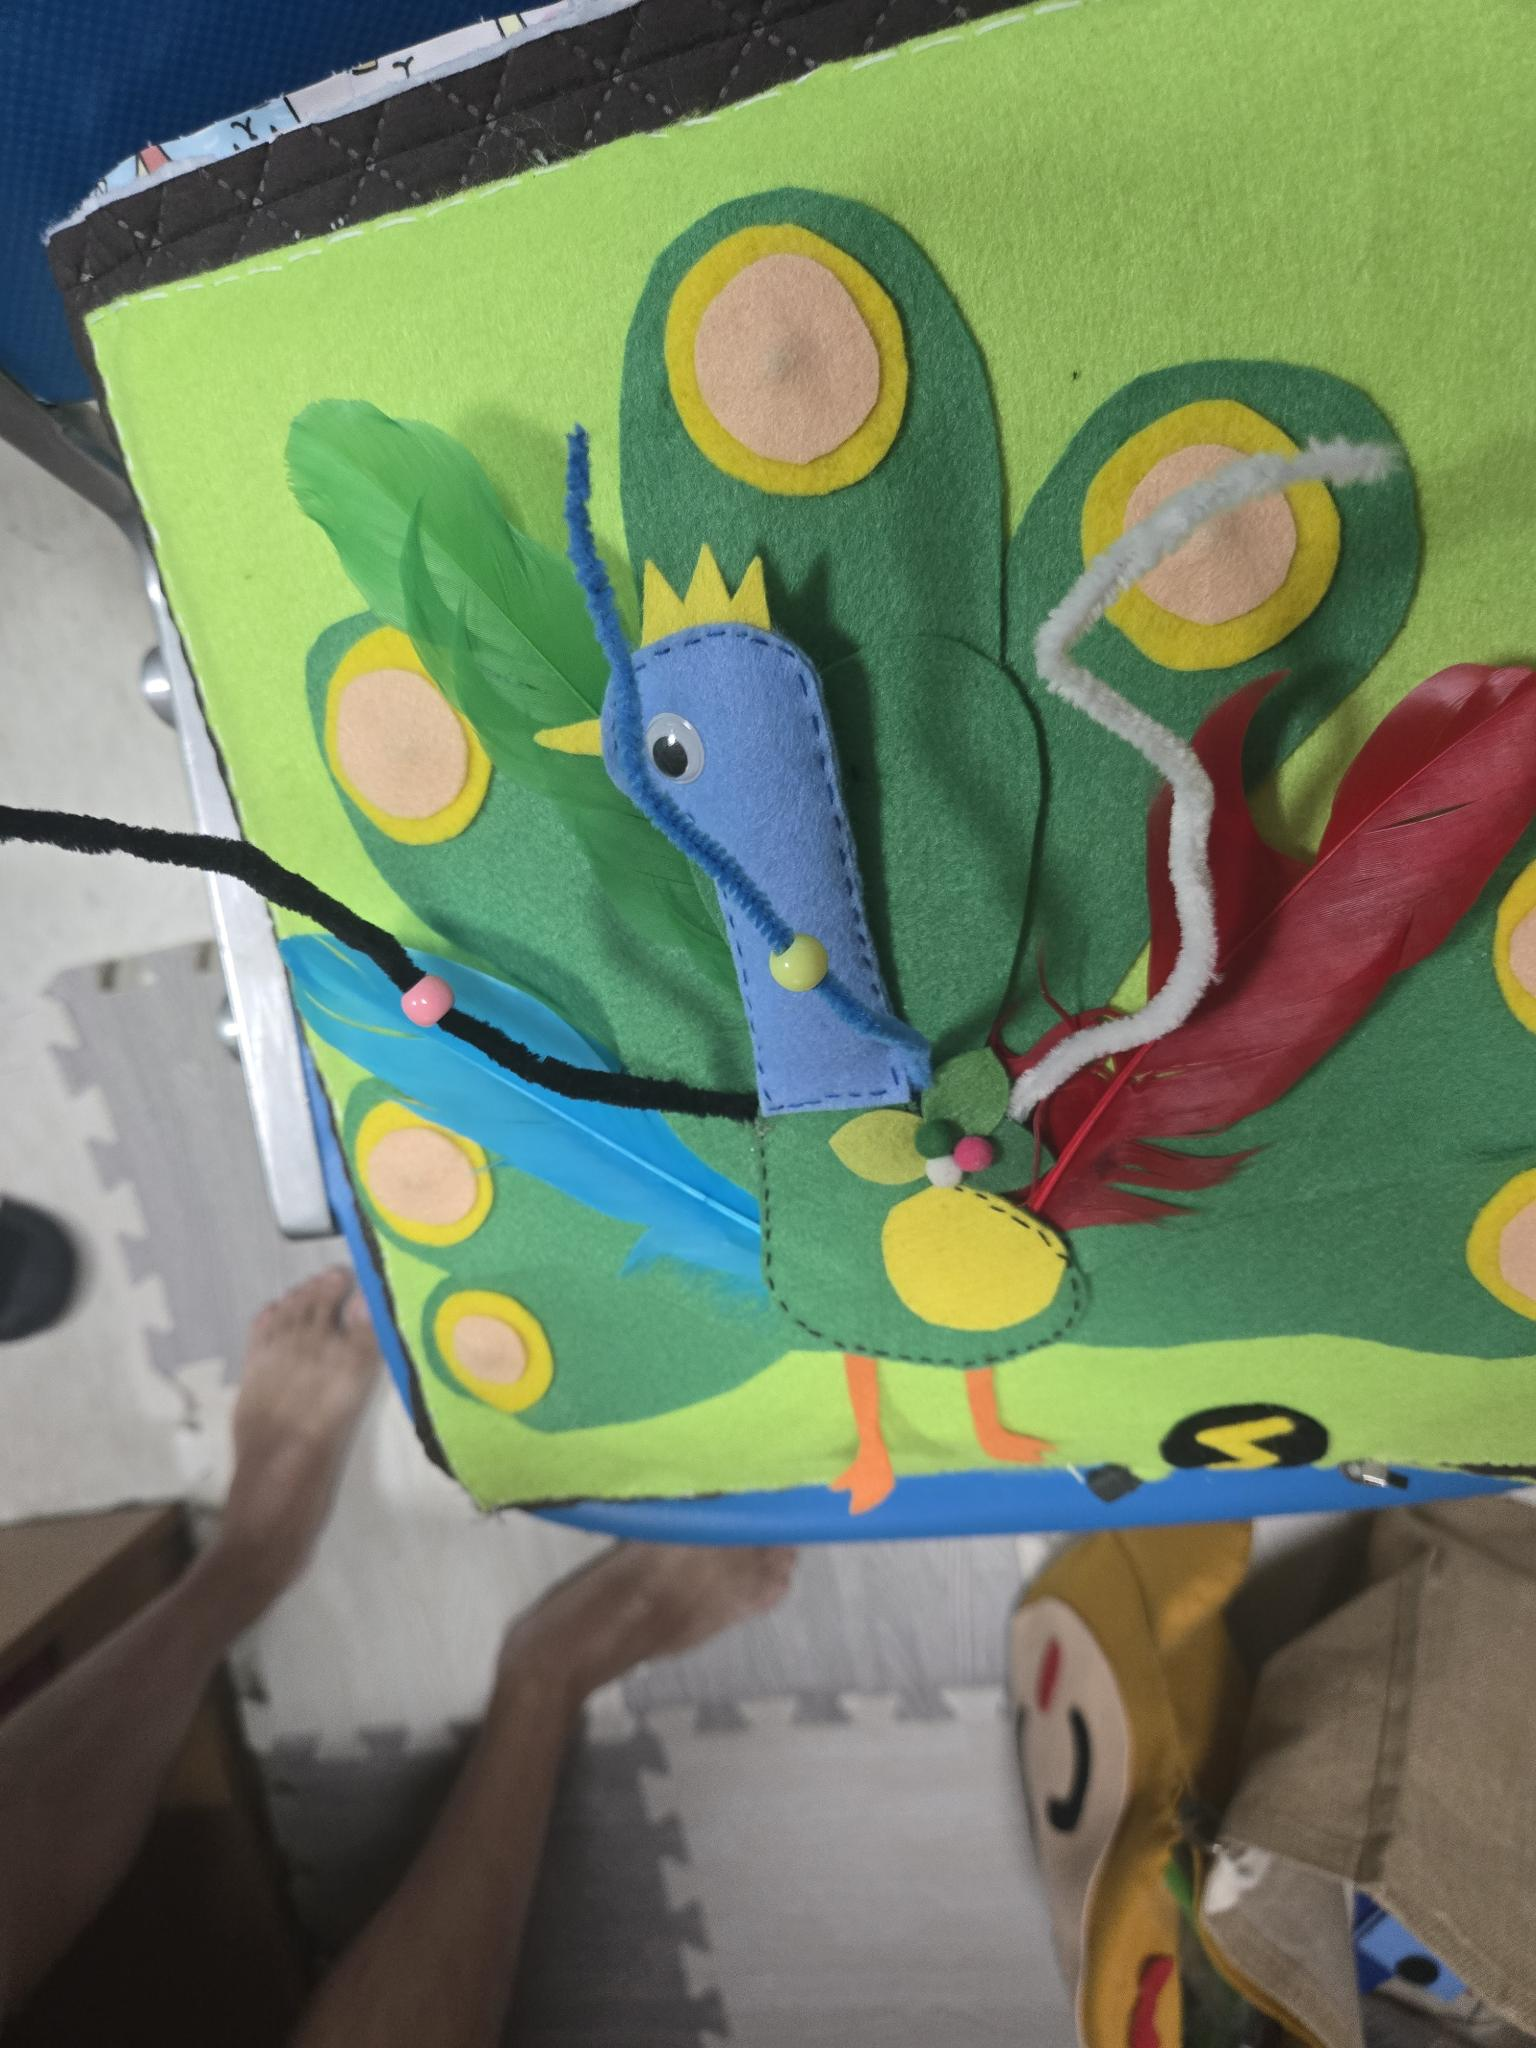bead: (733, 913, 850, 1009), (373, 953, 465, 1042)
